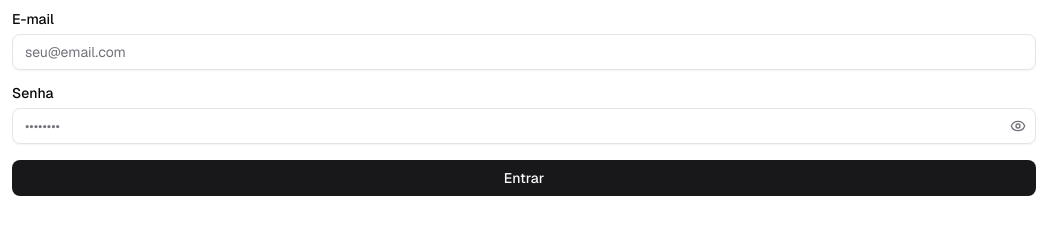
Test case: LoginForm › Validação de Formulário › should show error for empty password
The width and height of the screenshot is (1048, 241).
Type "test@example.com" into the field labelled "E-mail" at (524, 52), box x1=12 y1=34 x2=1036 y2=70
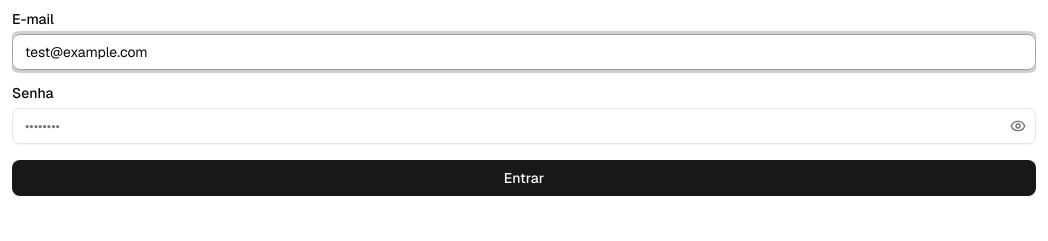
Click the button "Entrar" at (524, 178), box x1=12 y1=160 x2=1036 y2=196
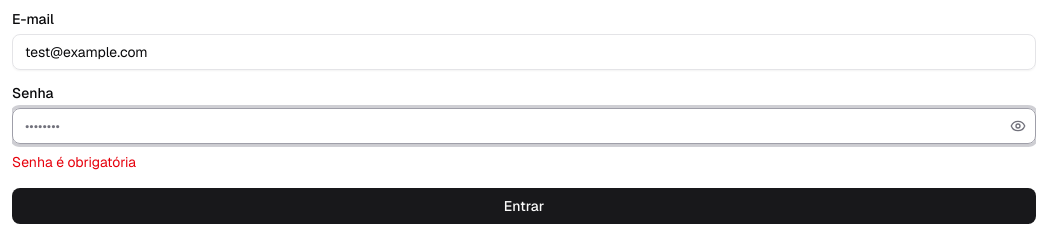
Check: the text "Senha é obrigatória" is shown, box x1=12 y1=153 x2=136 y2=171
